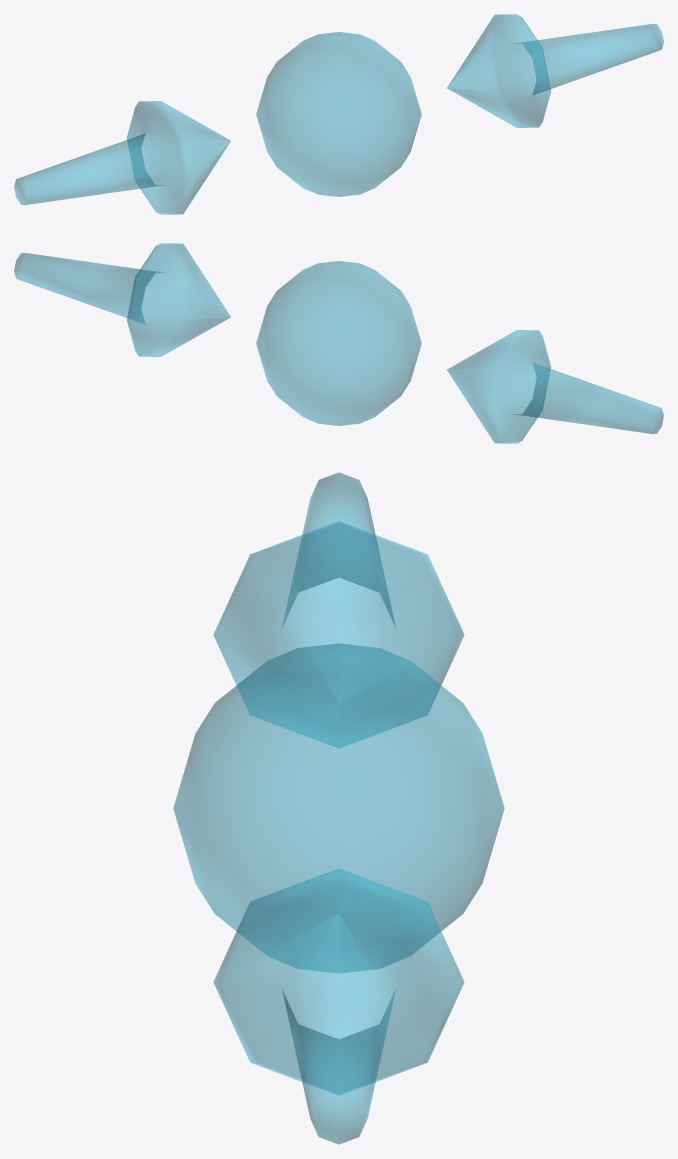
The model's file is pull_mode.obj.
3 views of the same model, one above another, from view 1: azimuth 30°, elevation 25°; view 2: azimuth 150°, elevation 25°; view 3: azimuth 270°, elevation 25° (orthographic). The views are drawn at different scales.
Parts seen in each view (by area): view 1: Sphere010; view 2: Sphere010; view 3: Sphere010.
Part boxes in pixels (x1,y1,x2,y2): Sphere010: (14, 14, 663, 214); Sphere010: (14, 243, 663, 443); Sphere010: (173, 472, 504, 1144).
Bounding box in the file's own units: 8.86 × 2 × 2.
